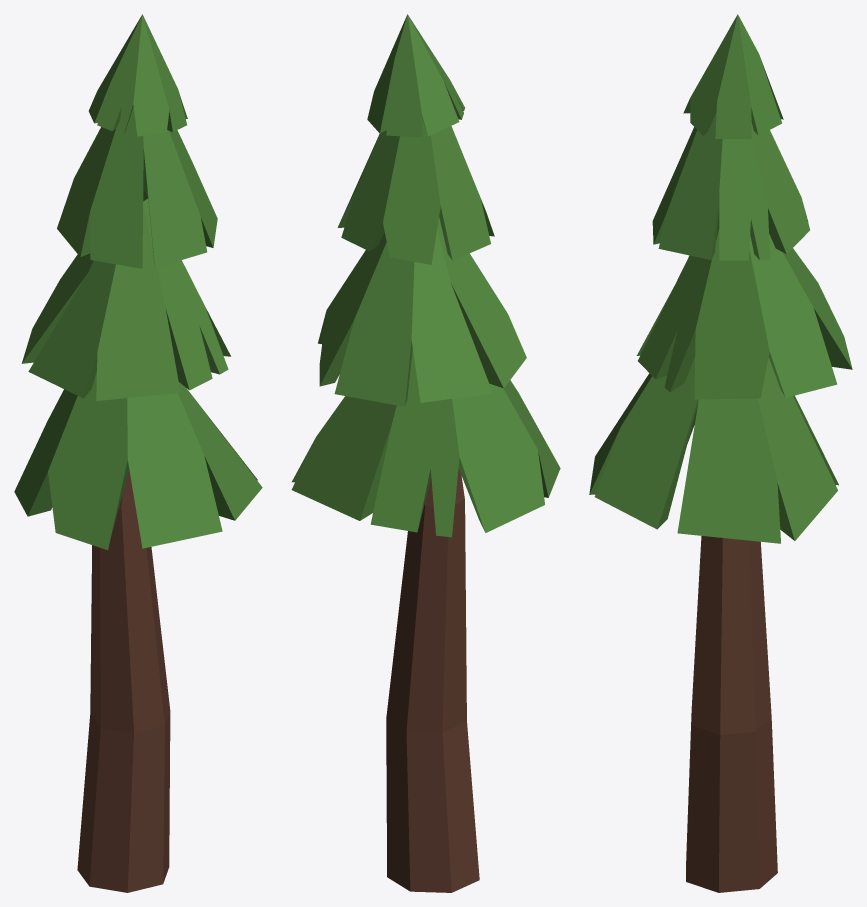
The model's file is Elka.fbx.
3 views of the same model, side by side, from view 1: azimuth 30°, elevation 25°; view 2: azimuth 150°, elevation 25°; view 3: azimuth 270°, elevation 25° (orthographic). The views are drawn at different scales.
Parts seen in each view (by area): view 1: Cylinder.003; view 2: Cylinder.003; view 3: Cylinder.003.
Part boxes in pixels (left/top/right/bottom): Cylinder.003: left=14, top=14, right=262, bottom=892; Cylinder.003: left=291, top=14, right=560, bottom=892; Cylinder.003: left=589, top=14, right=852, bottom=892.
Bounding box in the file's own units: 74.29 × 275 × 75.4.
